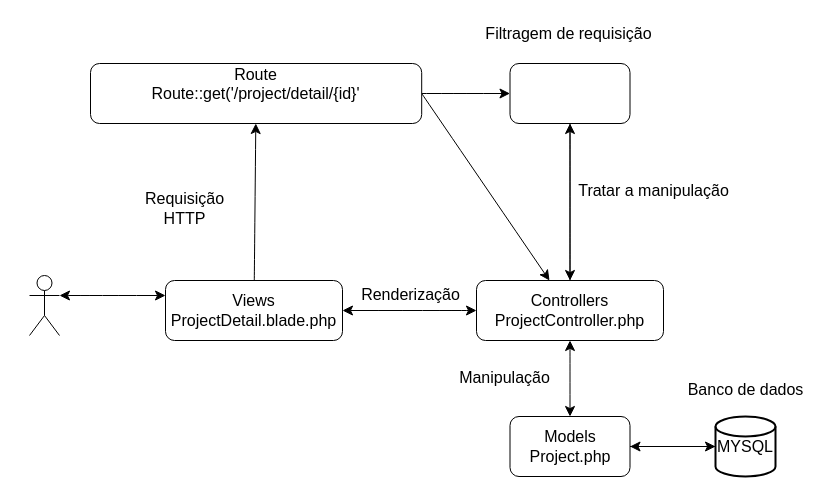
Some shapes in this 830 by 494 pixel diagram are drawn without their labels. Each missing label, with the centre of its shape:
Middleware: [569,93]
Usuário: [44,305]
